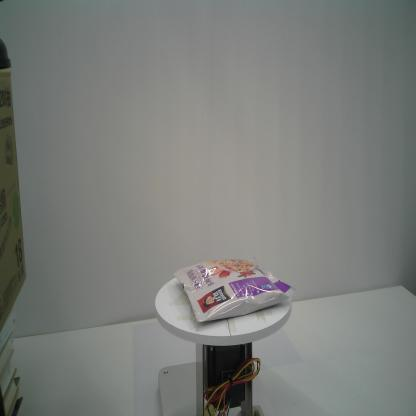Instant Drink: (172, 256, 296, 323)
